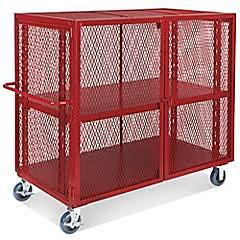Carts: (2, 8, 239, 235)
